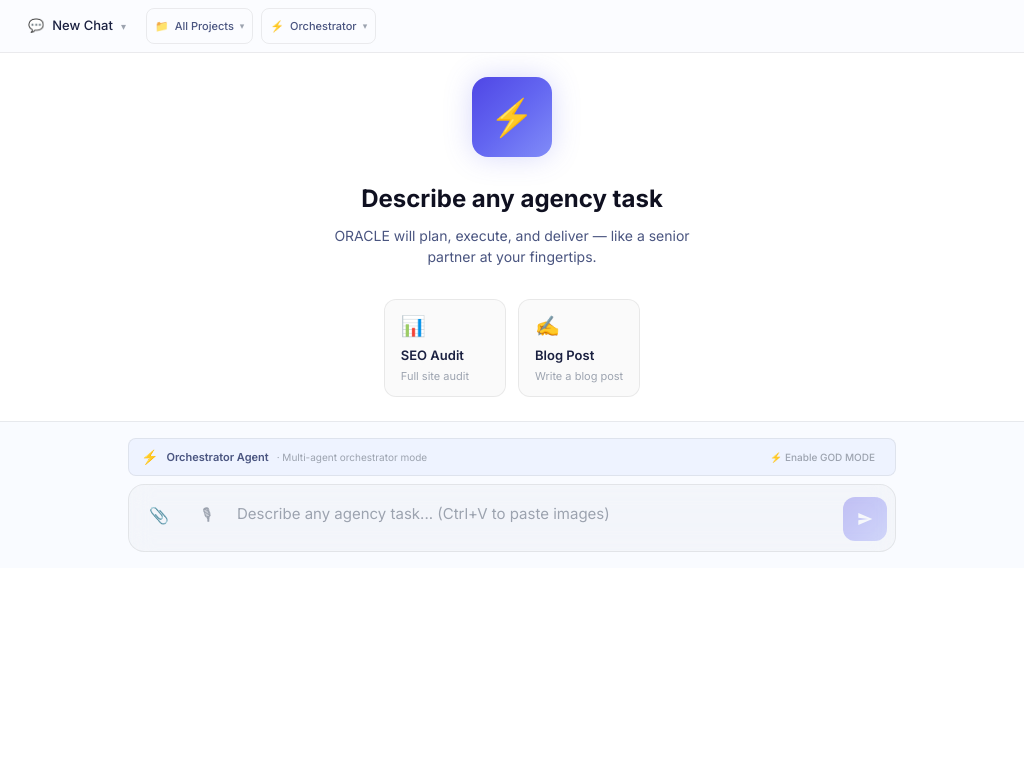
Test: Agency Brain End-to-End Integration › operating loop activation › runs operating loop when task complexity > 0.8
In the text box named "Chat input": (536, 519) [237,495,835,543], type "Build a comprehensive end-to-end marketing strategy for a dental clinic including SEO, ads, and social media"
Then press Enter
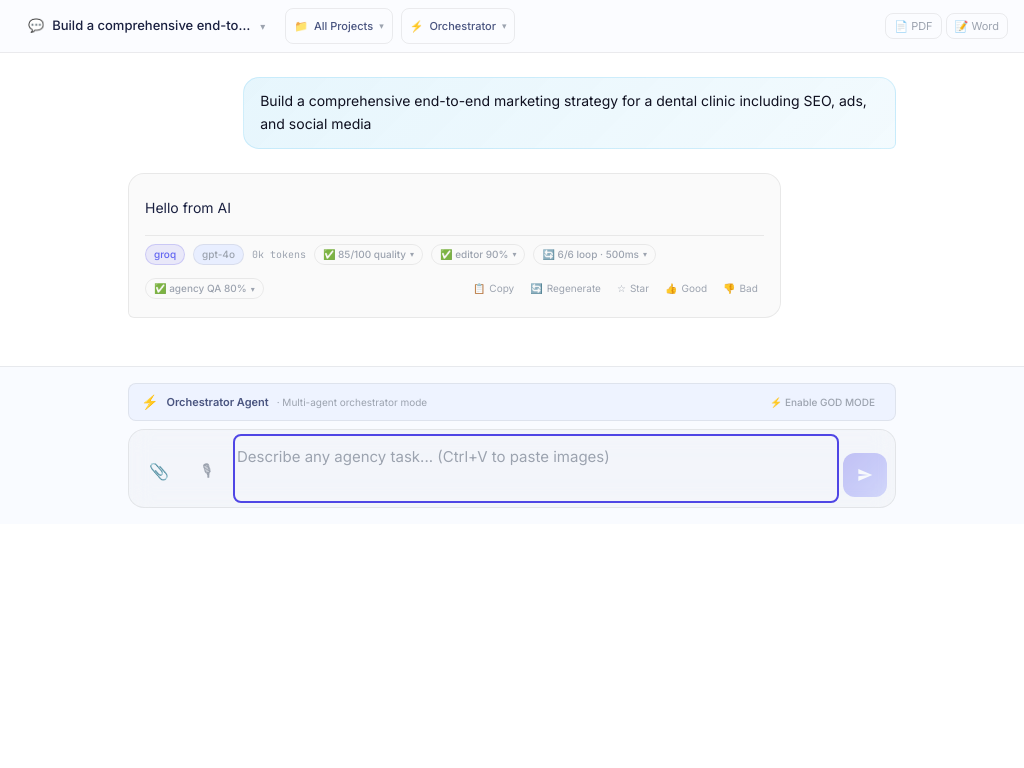
Expected: the text "Hello from AI" is shown, [145,198,231,216]
